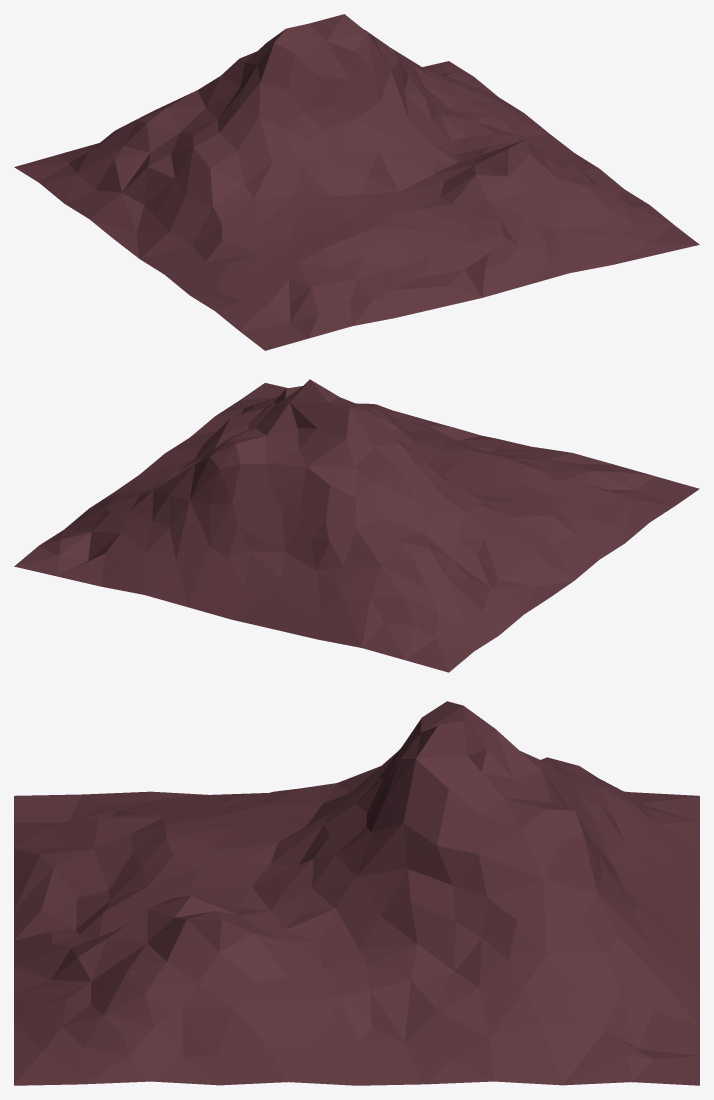
Rendered from terrain-mountains.fbx.
3 views of the same model, one above another, from view 1: azimuth 30°, elevation 25°; view 2: azimuth 150°, elevation 25°; view 3: azimuth 270°, elevation 25° (orthographic). The views are drawn at different scales.
Visible parts, largest first — view 1: terrain-mountains; view 2: terrain-mountains; view 3: terrain-mountains.
Boxes of the visible parts, x1=… form: terrain-mountains: x1=14, y1=14, x2=699, y2=350; terrain-mountains: x1=14, y1=379, x2=699, y2=672; terrain-mountains: x1=14, y1=701, x2=699, y2=1085.
Size of the model in its own units: 60 by 21.88 by 60.
